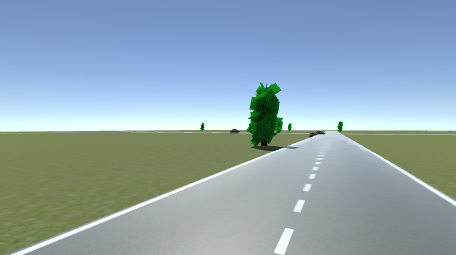tree: (246, 82, 284, 147), (337, 120, 344, 133)
